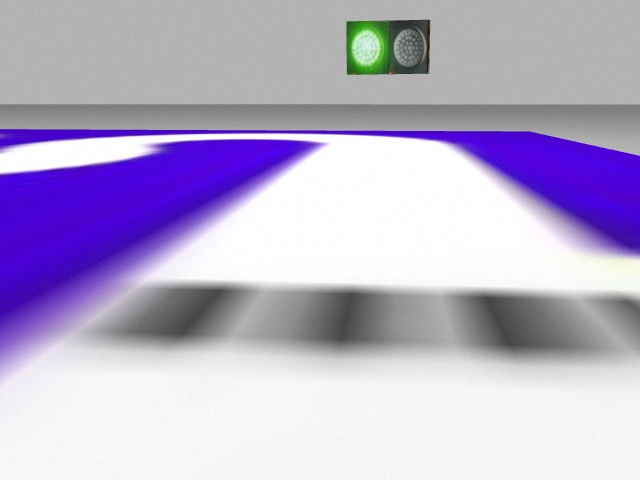green: (347, 21, 390, 73)
